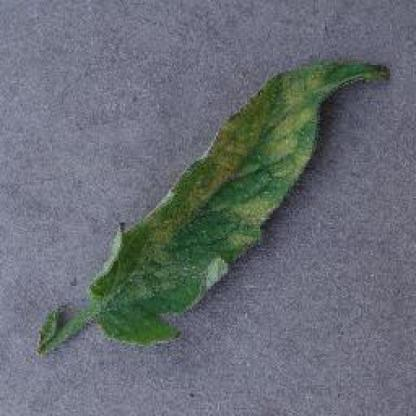Tomato_Leaf_Mold: (94, 61, 390, 345)
